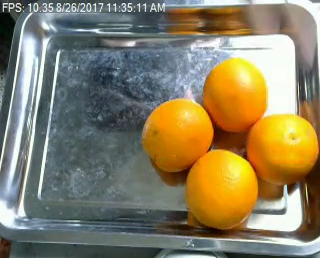Orange: (185, 148, 257, 228), (141, 98, 213, 172), (246, 112, 318, 184), (202, 57, 269, 132)
